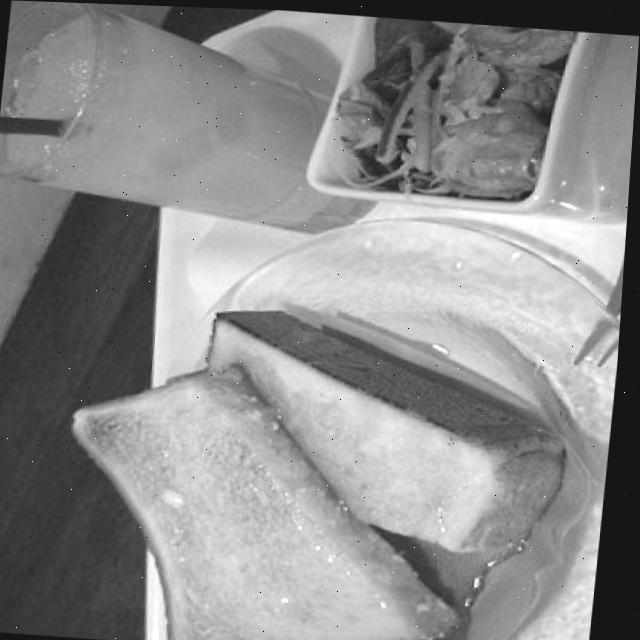面包点心: (63, 274, 579, 640)
